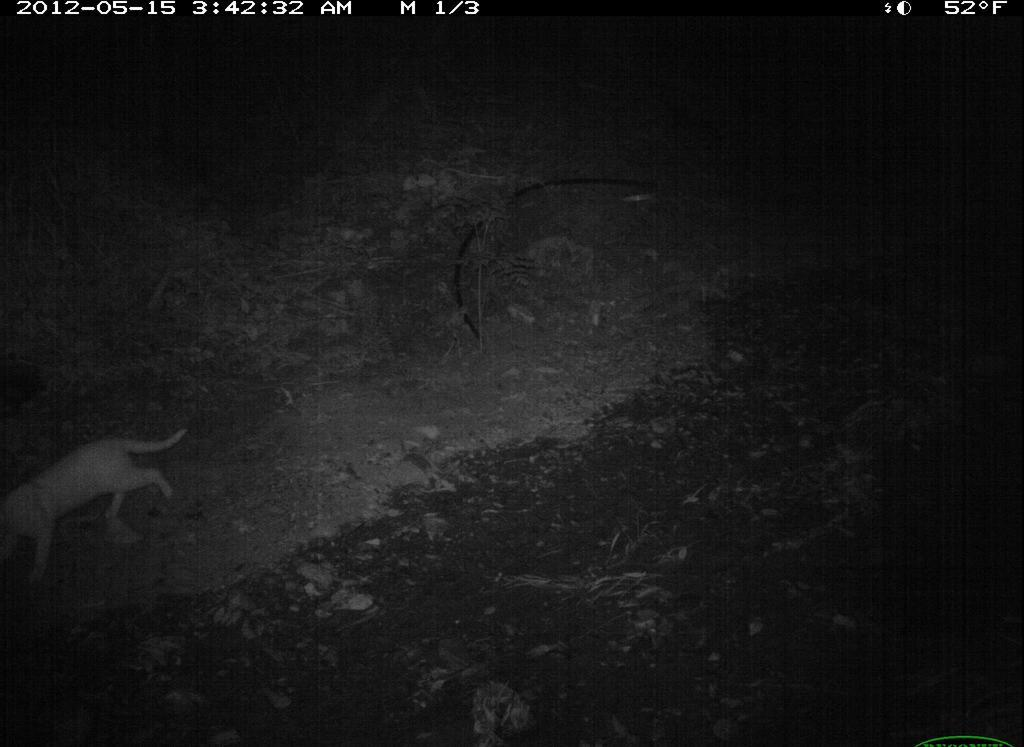cat: (1, 417, 194, 591)
